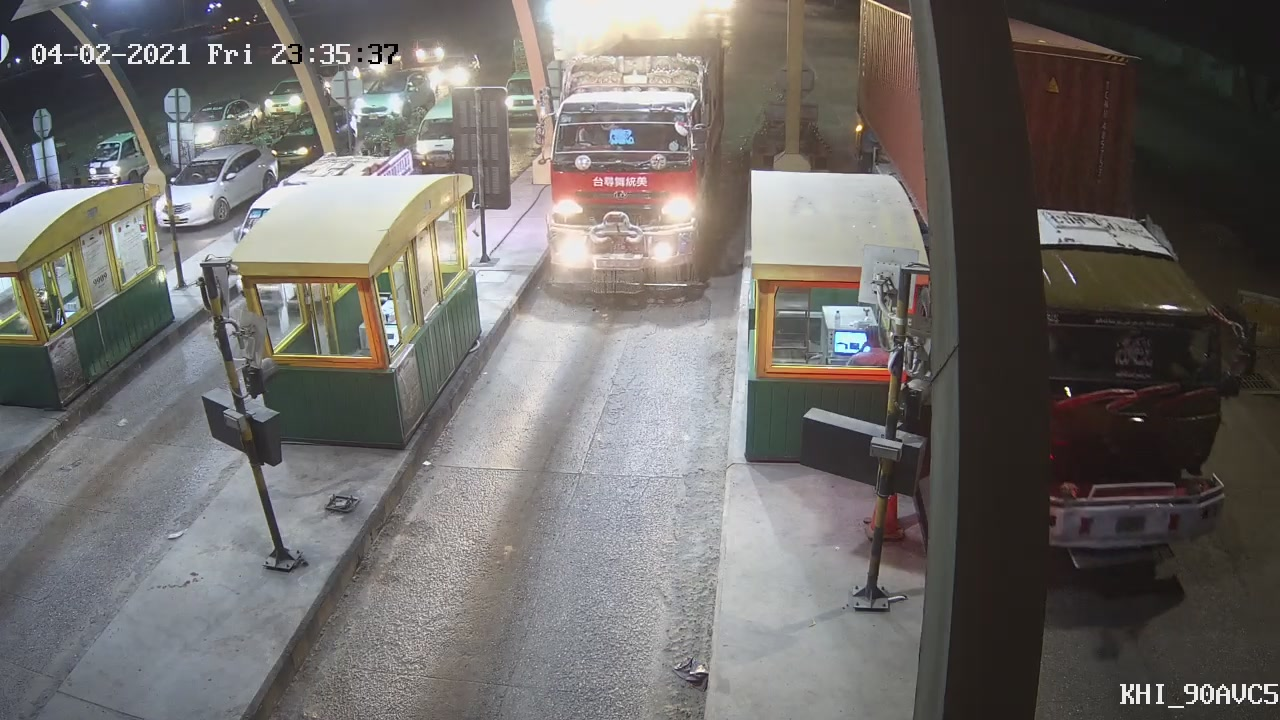F5: (536, 49, 725, 296)
